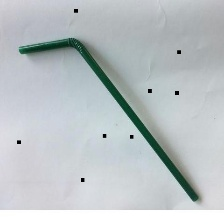drinking_straw: (12, 31, 204, 207)
